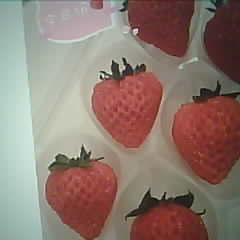straw-ripe: (172, 95, 240, 183), (48, 158, 118, 238), (92, 75, 163, 148)
